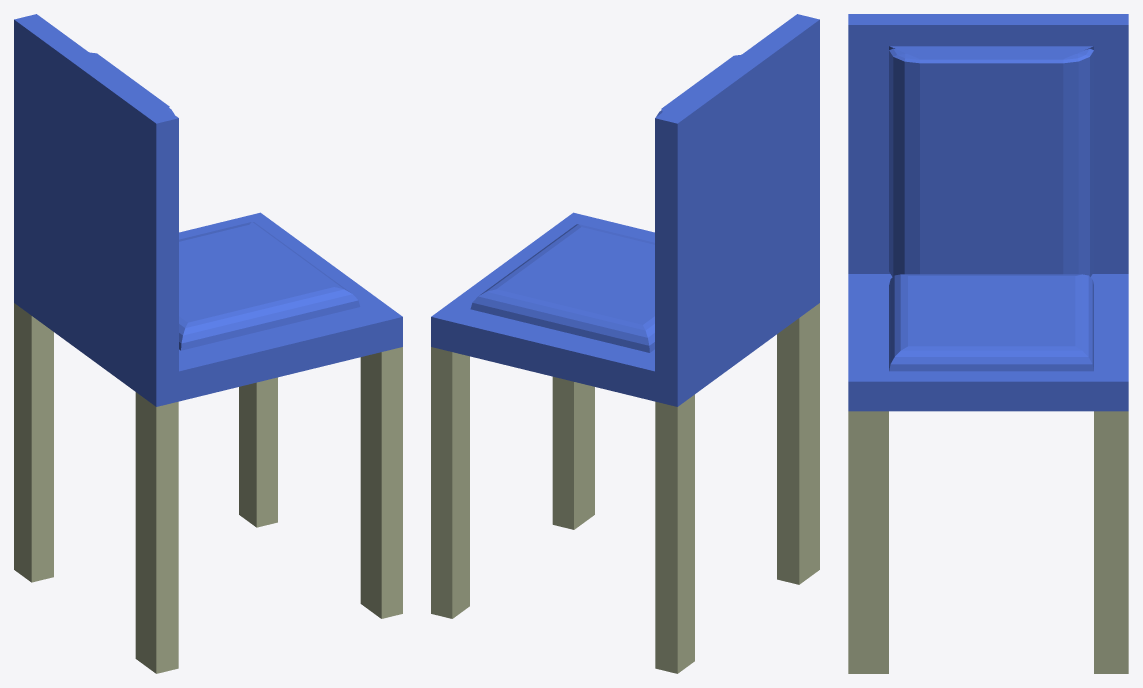
File: sillabien.fbx
The picture shows the model from 3 angles, left to right: view 1: azimuth 30°, elevation 25°; view 2: azimuth 150°, elevation 25°; view 3: azimuth 270°, elevation 25°; orthographic projection.
Visible parts, largest first — view 1: silla, respaldosillaabajo; view 2: silla, respaldosillaabajo; view 3: silla, respaldosillaarriba, respaldosillaabajo.
Part boxes in pixels (left/top/right/bottom): silla: left=14, top=14, right=402, bottom=673; respaldosillaabajo: left=179, top=222, right=360, bottom=350; silla: left=431, top=14, right=819, bottom=673; respaldosillaabajo: left=470, top=224, right=654, bottom=354; silla: left=848, top=14, right=1128, bottom=673; respaldosillaarriba: left=889, top=25, right=1093, bottom=276; respaldosillaabajo: left=889, top=274, right=1093, bottom=371.
Size of the model in its own units: 200 by 427 by 200.
